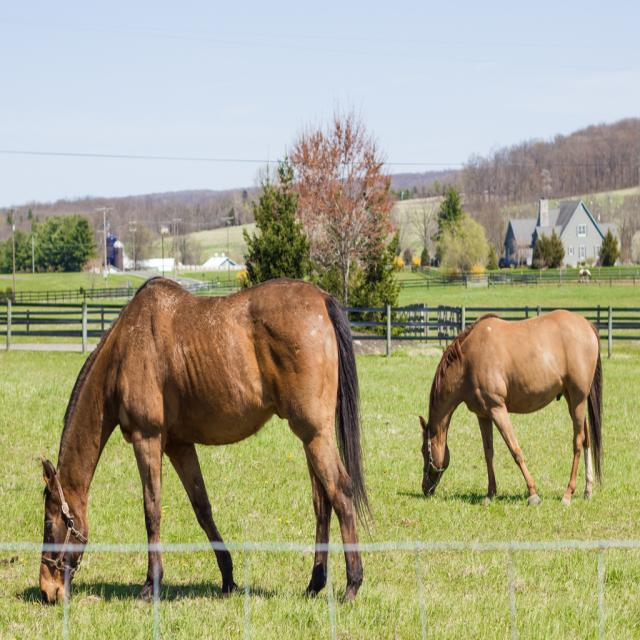Horse: (38, 277, 375, 606), (418, 310, 602, 508), (578, 268, 592, 282)
